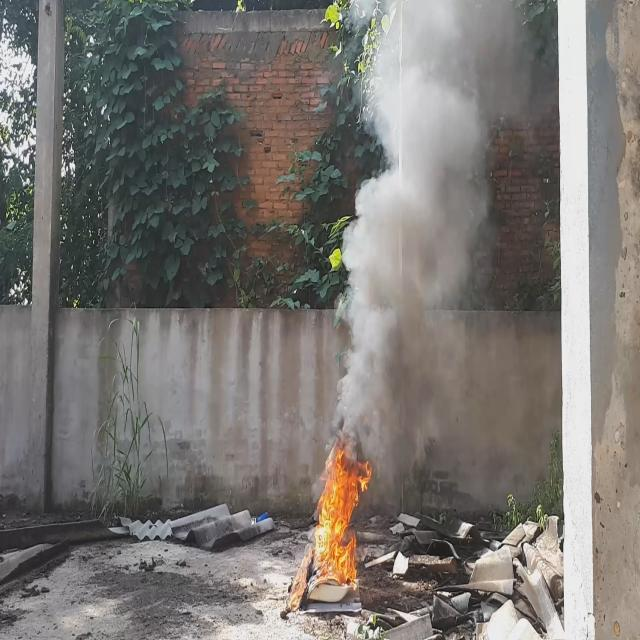Fire: (314, 431, 372, 590)
Smoke: (337, 0, 534, 498)
